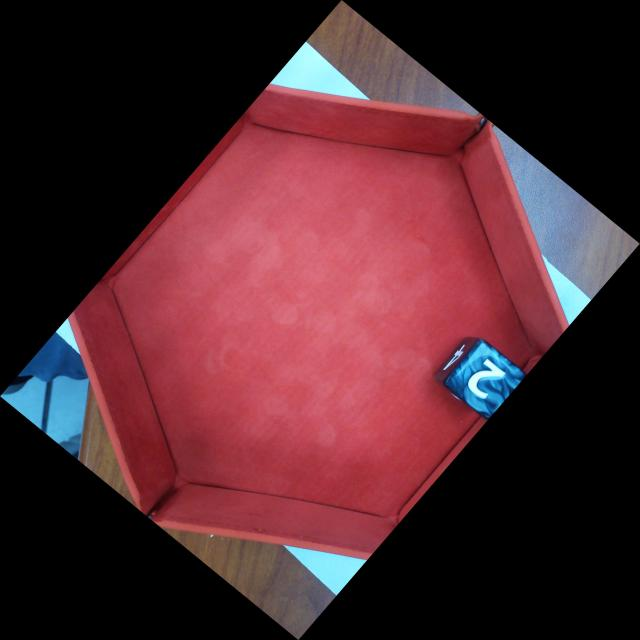dice: (445, 338, 526, 422)
